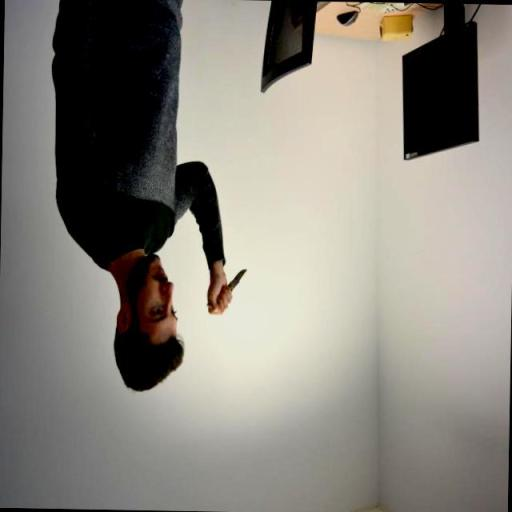knife: (206, 264, 251, 311)
